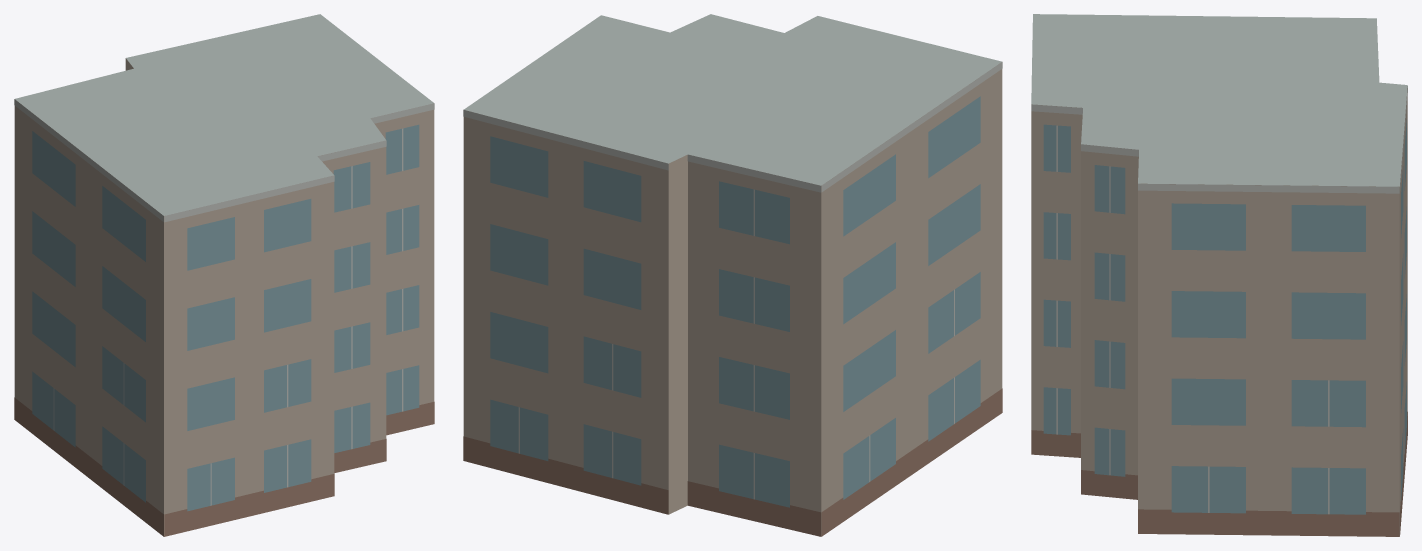
The model's file is survey-upis-32679266.glb.
3 views of the same model, side by side, from view 1: azimuth 30°, elevation 25°; view 2: azimuth 150°, elevation 25°; view 3: azimuth 270°, elevation 25° (orthographic). The views are drawn at different scales.
Visible parts, largest first — view 1: survey-upis-32679266.tmp; view 2: survey-upis-32679266.tmp; view 3: survey-upis-32679266.tmp.
Boxes of the visible parts, x1,y1,x2,y2 form: survey-upis-32679266.tmp: (14,14,434,536); survey-upis-32679266.tmp: (463,14,1002,536); survey-upis-32679266.tmp: (1031,14,1407,536).
Size of the model in its own units: 13.08 by 12.35 by 12.05.
